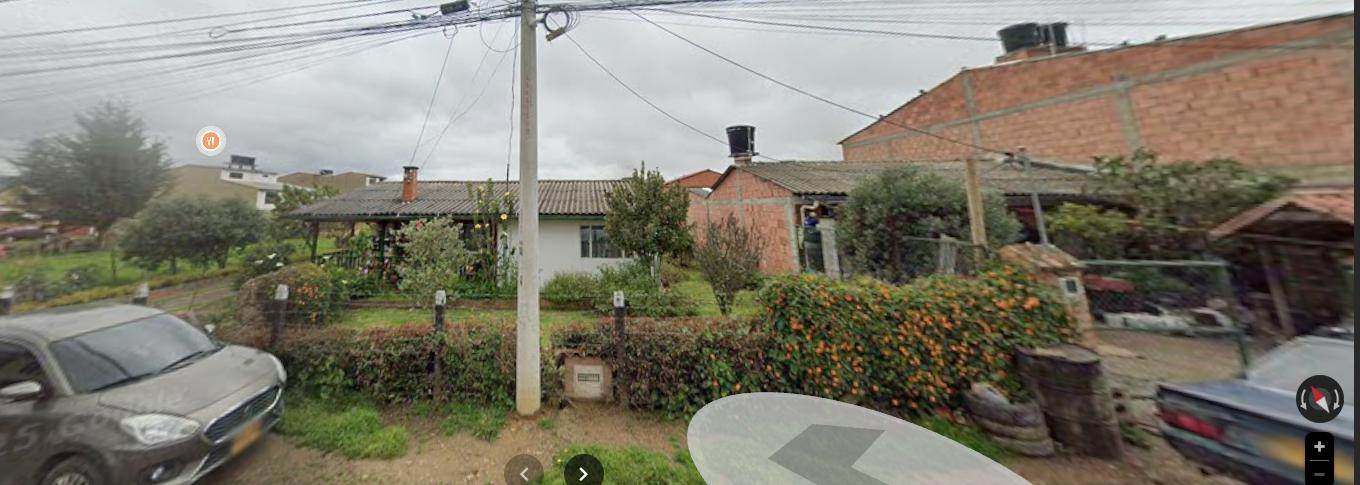casa: (227, 169, 1078, 416)
poste: (515, 0, 541, 415)
